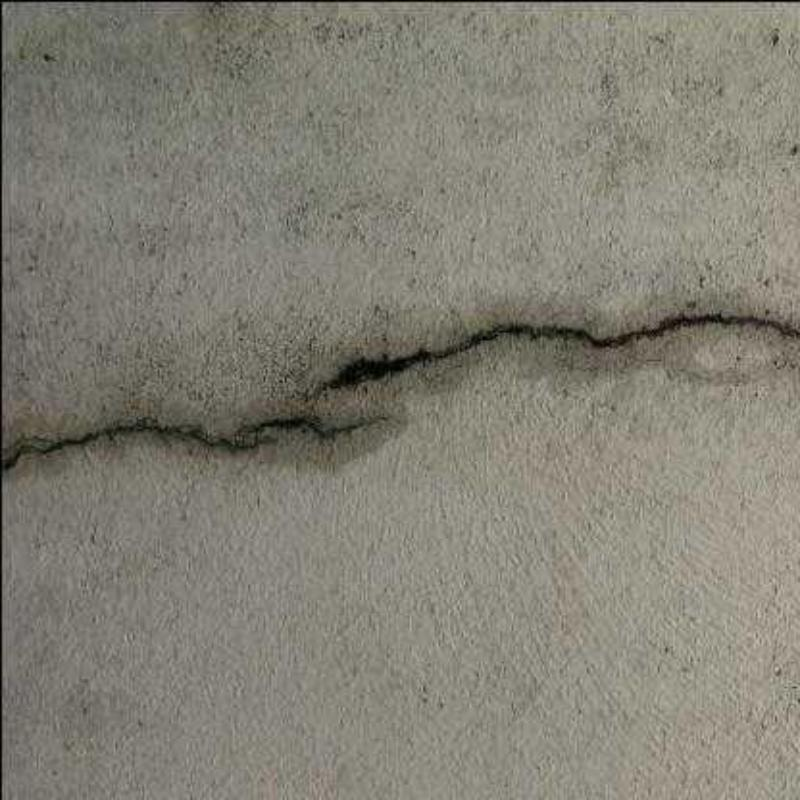crack: (318, 314, 800, 391), (0, 421, 272, 470), (239, 416, 396, 437)
